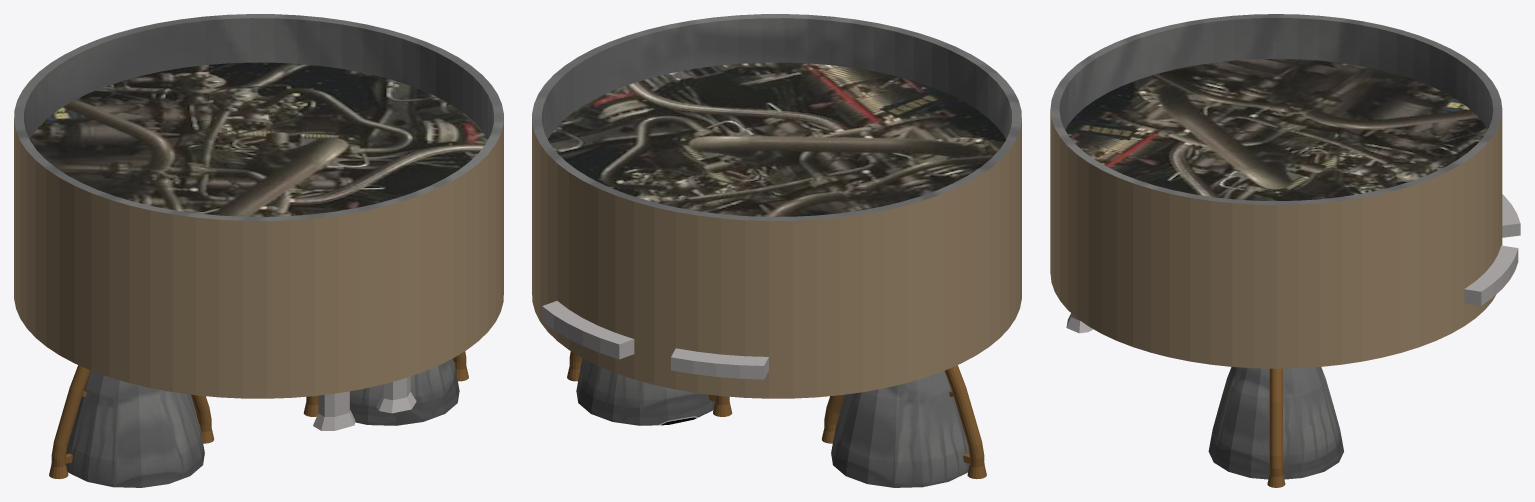
Rendered from draft1.dae.
3 views of the same model, side by side, from view 1: azimuth 30°, elevation 25°; view 2: azimuth 150°, elevation 25°; view 3: azimuth 270°, elevation 25° (orthographic). The views are drawn at different scales.
Visible parts, largest first — view 1: EngineBase, MainTube2, MainTube1, GasTube.001, GasTube; view 2: EngineBase, MainTube2, MainTube1, GasTube.001, GasTube; view 3: EngineBase, MainTube1, GasTube.
Part boxes in pixels (left/top/right/bottom): EngineBase: left=14, top=14, right=503, bottom=430; MainTube2: left=66, top=371, right=204, bottom=487; MainTube1: left=350, top=358, right=459, bottom=425; GasTube.001: left=49, top=365, right=213, bottom=479; GasTube: left=303, top=351, right=468, bottom=416; EngineBase: left=532, top=14, right=1021, bottom=398; MainTube2: left=831, top=371, right=969, bottom=487; MainTube1: left=576, top=358, right=714, bottom=425; GasTube.001: left=822, top=365, right=986, bottom=479; GasTube: left=567, top=351, right=732, bottom=416; EngineBase: left=1050, top=14, right=1520, bottom=368; MainTube1: left=1208, top=367, right=1343, bottom=479; GasTube: left=1267, top=368, right=1285, bottom=487.
Bounding box in the file's own units: 5 × 5.2 × 3.47.
Materials: 1 (1 with a texture image).
